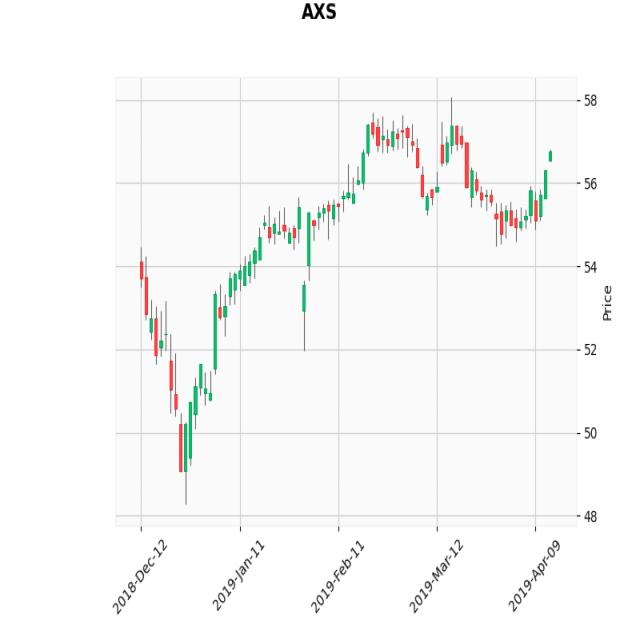Double-Top: (353, 91, 488, 230)
